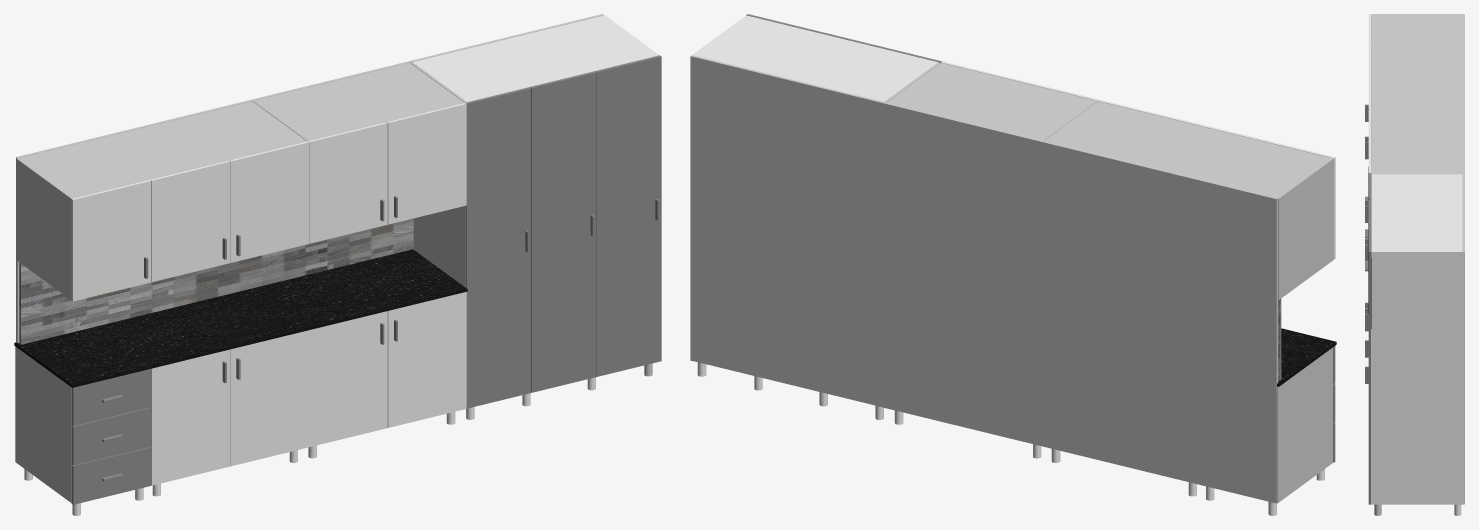
File: kitchen_cabinets_drawers_counter_etc..glb
3 renders of one model, left to right at view 1: azimuth 30°, elevation 25°; view 2: azimuth 150°, elevation 25°; view 3: azimuth 270°, elevation 25°, orthographic. The views are drawn at different scales.
Parts seen in each view (by area): view 1: Cube.19_9, Cube.4_31, Cube.1_28, Cube.5_26, Cube.27_0, Cube.5_88, Cube.8_69, Cube.12_66, Cube.8_77, Cube.12_74, Cube.15_79, Cube.15_16 (+13 smaller); view 2: Cube.26_1, Cube.5_88, Cube.15_16, Cube.15_79, Cube.11_12, Cube.14_17, Cube.15_55, Cube.19_9; view 3: Cube.1_89, Cube.5_88, Cube.15_16, Cube.15_79, Cube.15_55, Cube.5_26, Cube.26_1, Cube.11_83, Cube.14_80, Cube.19_9, Cube.11_59, Cube.2_32.
Boxes of the visible parts, x1=… form: Cube.19_9: x1=14, y1=249, x2=467, y2=387; Cube.4_31: x1=465, y1=87, x2=531, y2=408; Cube.1_28: x1=530, y1=71, x2=596, y2=392; Cube.5_26: x1=595, y1=55, x2=661, y2=376; Cube.27_0: x1=19, y1=218, x2=413, y2=344; Cube.5_88: x1=412, y1=15, x2=658, y2=102; Cube.8_69: x1=230, y1=330, x2=309, y2=466; Cube.12_66: x1=151, y1=349, x2=230, y2=485; Cube.8_77: x1=387, y1=292, x2=466, y2=427; Cube.12_74: x1=309, y1=311, x2=387, y2=446; Cube.15_79: x1=255, y1=63, x2=462, y2=140; Cube.15_16: x1=18, y1=121, x2=225, y2=198; Cube.26_1: x1=691, y1=55, x2=1278, y2=503; Cube.5_88: x1=691, y1=15, x2=938, y2=101; Cube.15_16: x1=1125, y1=121, x2=1331, y2=197; Cube.15_79: x1=889, y1=63, x2=1095, y2=140; Cube.11_12: x1=1277, y1=347, x2=1333, y2=503; Cube.14_17: x1=1278, y1=158, x2=1333, y2=300; Cube.15_55: x1=1046, y1=101, x2=1178, y2=160; Cube.19_9: x1=1277, y1=328, x2=1336, y2=386; Cube.1_89: x1=1371, y1=251, x2=1464, y2=504; Cube.5_88: x1=1371, y1=174, x2=1462, y2=251; Cube.15_16: x1=1371, y1=14, x2=1462, y2=76; Cube.15_79: x1=1371, y1=110, x2=1462, y2=172; Cube.15_55: x1=1371, y1=76, x2=1462, y2=108; Cube.5_26: x1=1368, y1=226, x2=1371, y2=504; Cube.26_1: x1=1462, y1=14, x2=1464, y2=503; Cube.11_83: x1=1371, y1=172, x2=1462, y2=257; Cube.14_80: x1=1371, y1=109, x2=1461, y2=171; Cube.19_9: x1=1368, y1=167, x2=1371, y2=328; Cube.11_59: x1=1371, y1=108, x2=1462, y2=109; Cube.2_32: x1=1371, y1=173, x2=1462, y2=174.
Size of the model in its own units: 395 by 205 by 69.96.
8 materials, 2 textured.
